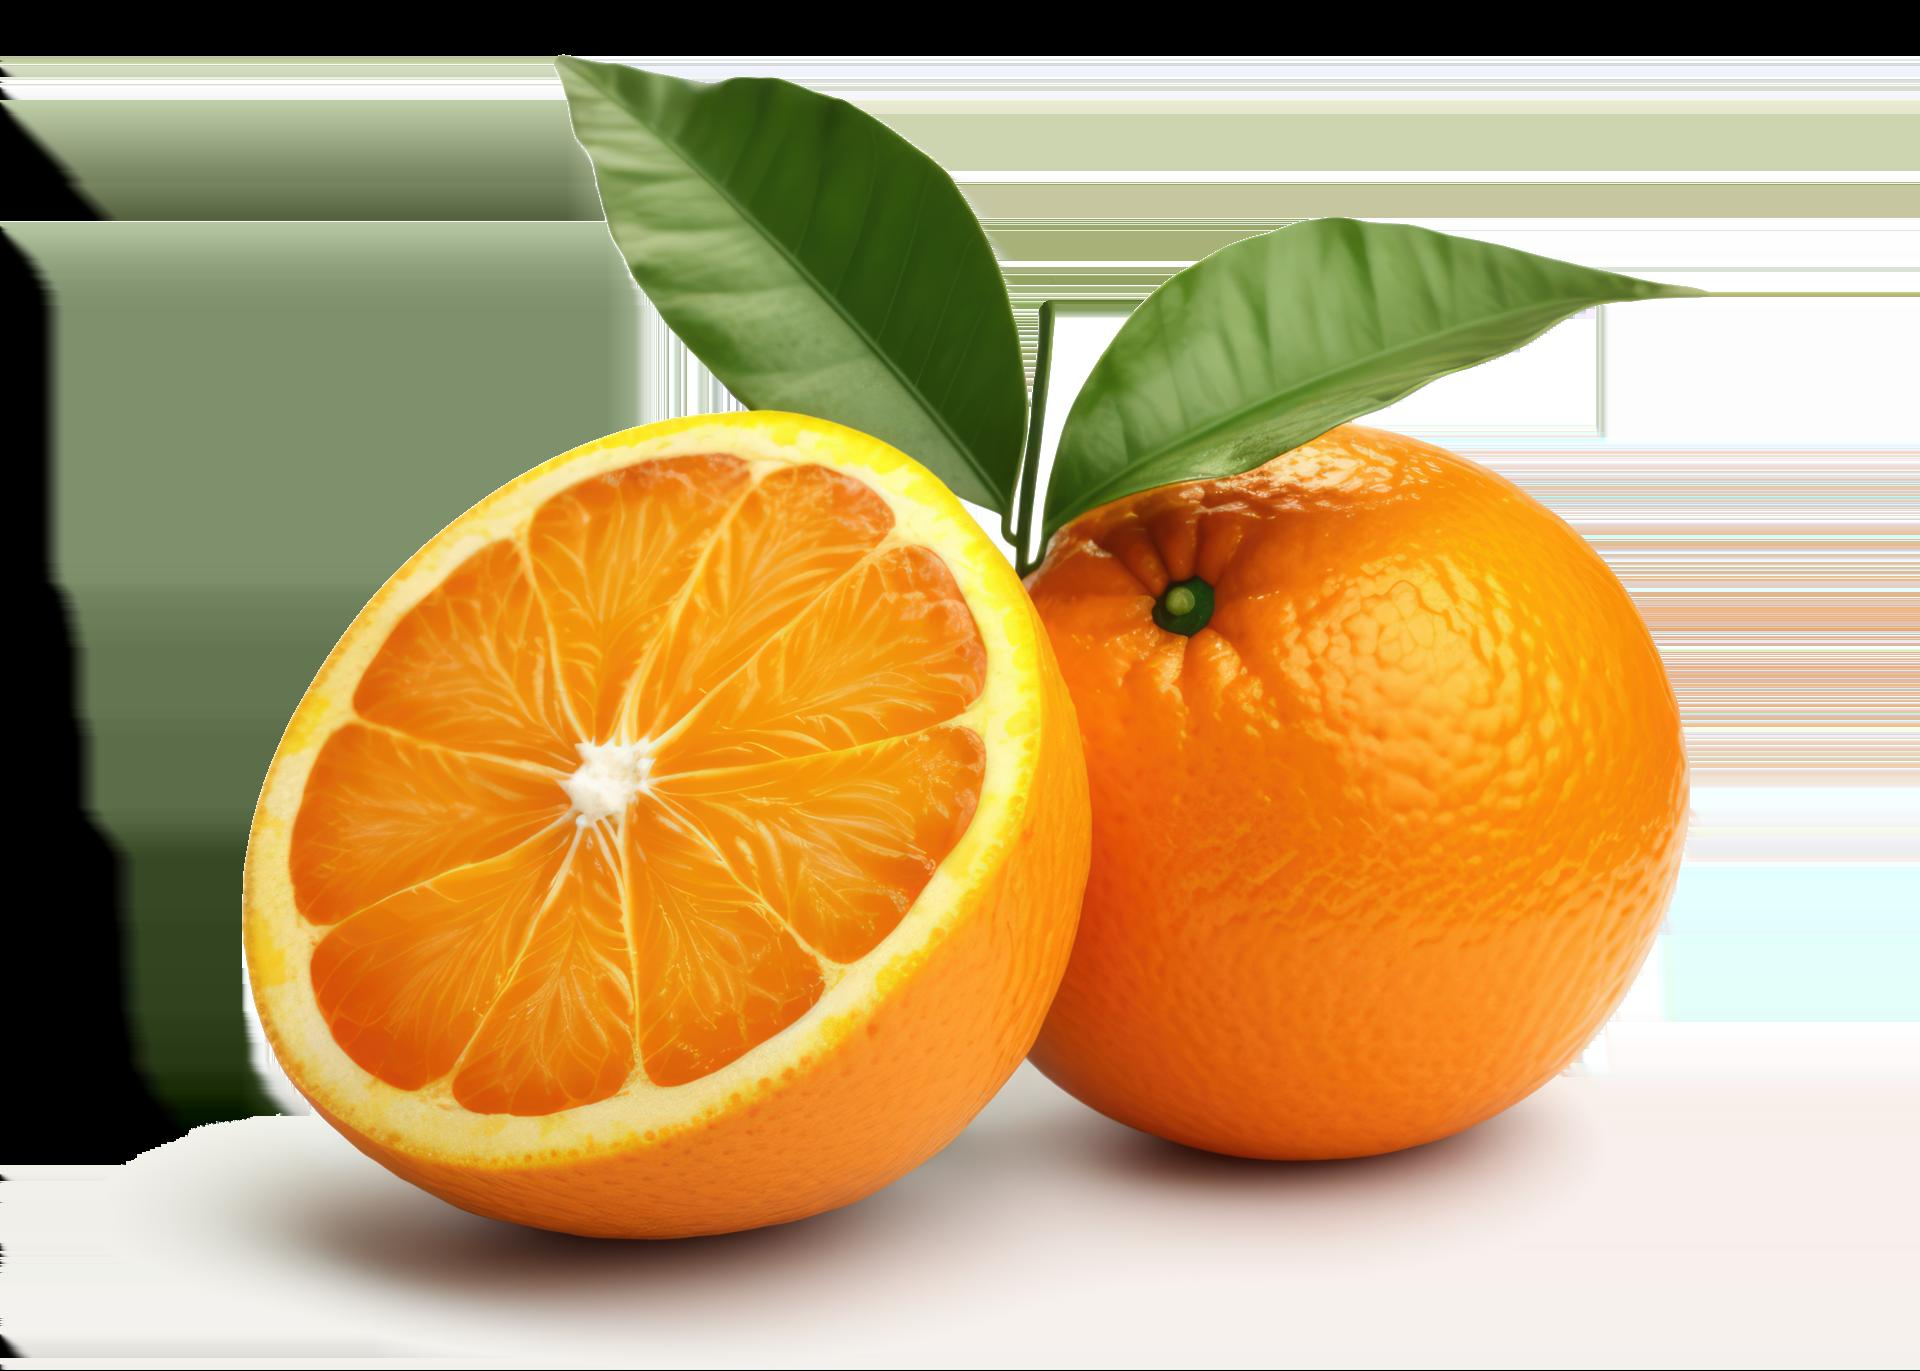Orange: (151, 353, 1135, 1309)
